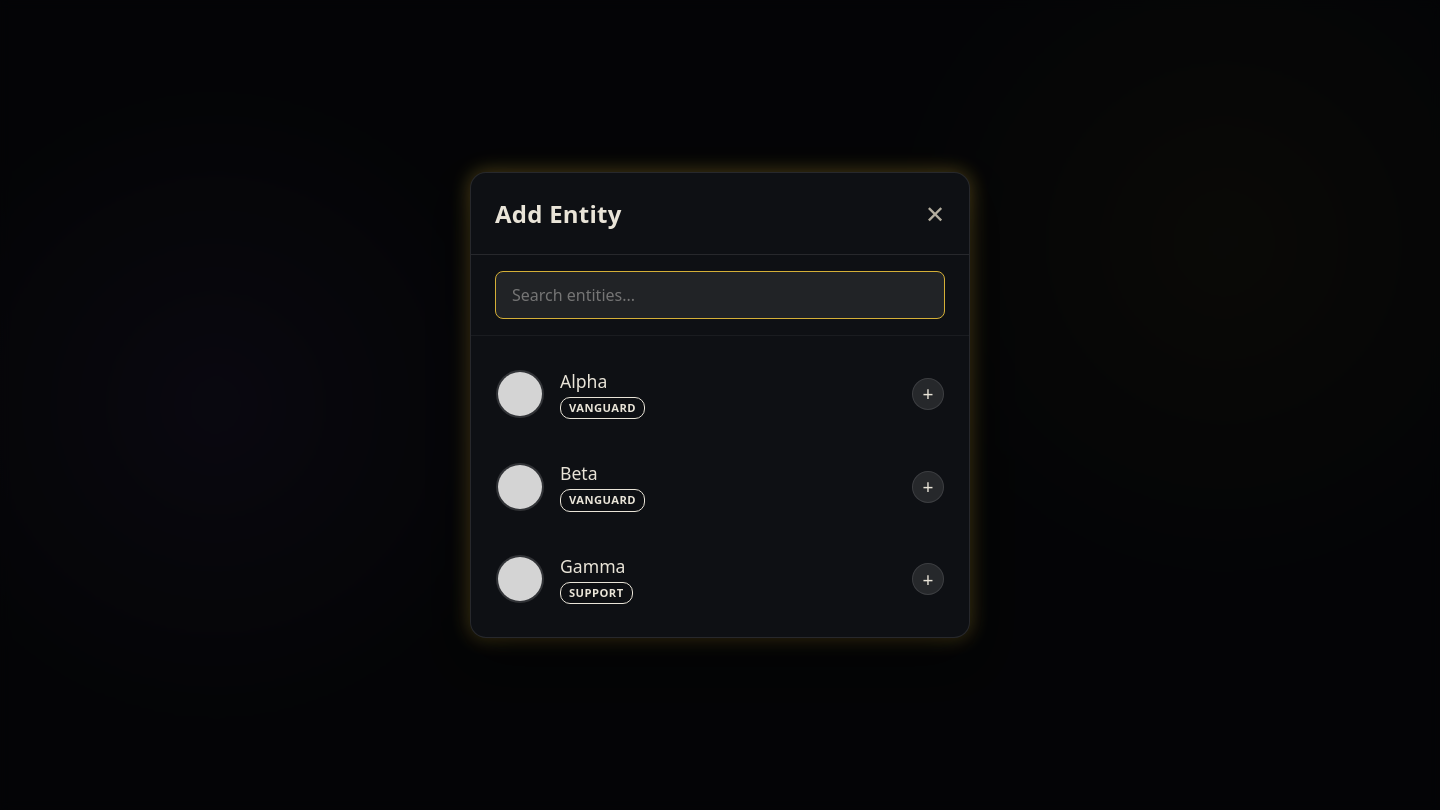
Test case: AddEntityModal › searches by a secondary key
Type "Vanguard" into the field with placeholder "Search entities..." at {"x": 720, "y": 295}, box [495,271,945,319]
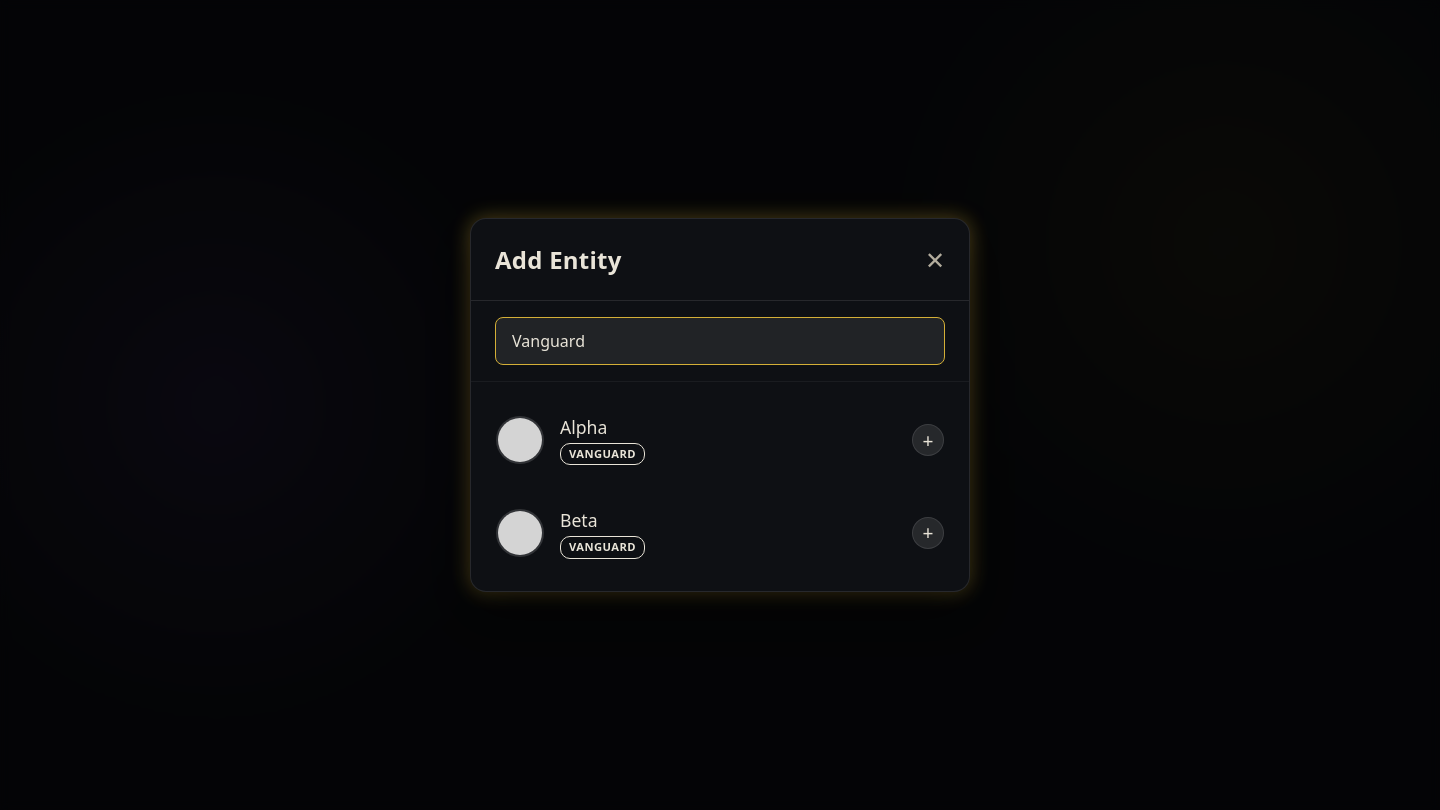
Expected: the text "Alpha" is shown, [560,415,607,439]
Result: the text "Gamma" is gone
